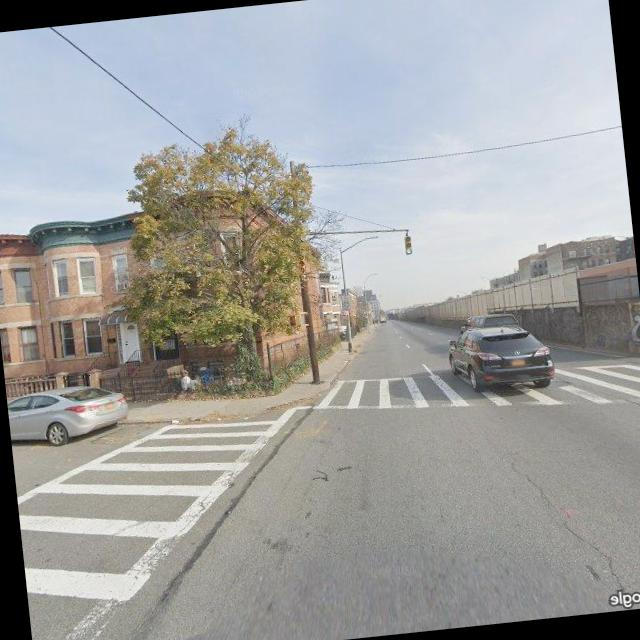pothole: (504, 440, 631, 600)
